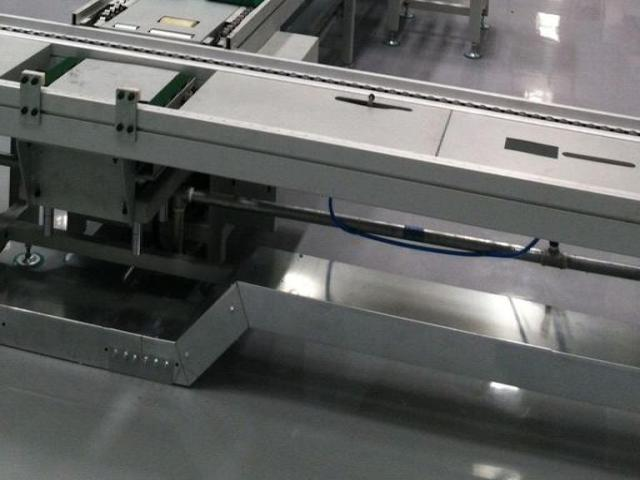conveyor: (0, 14, 640, 263)
